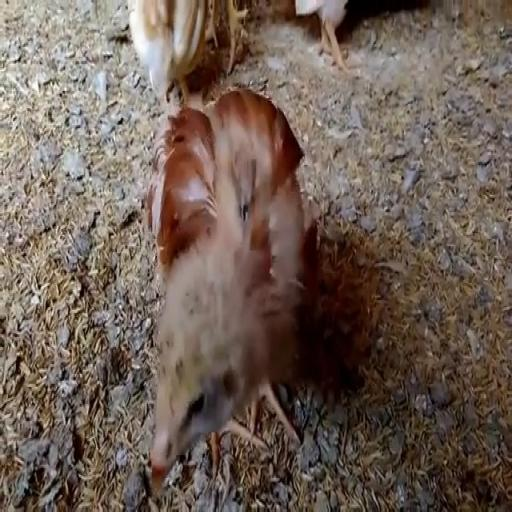disease: (160, 358, 220, 461)
